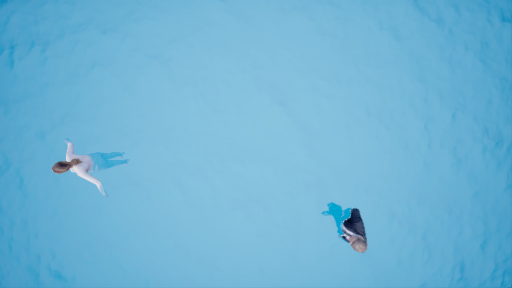person: (45, 134, 136, 197), (324, 198, 370, 258)
